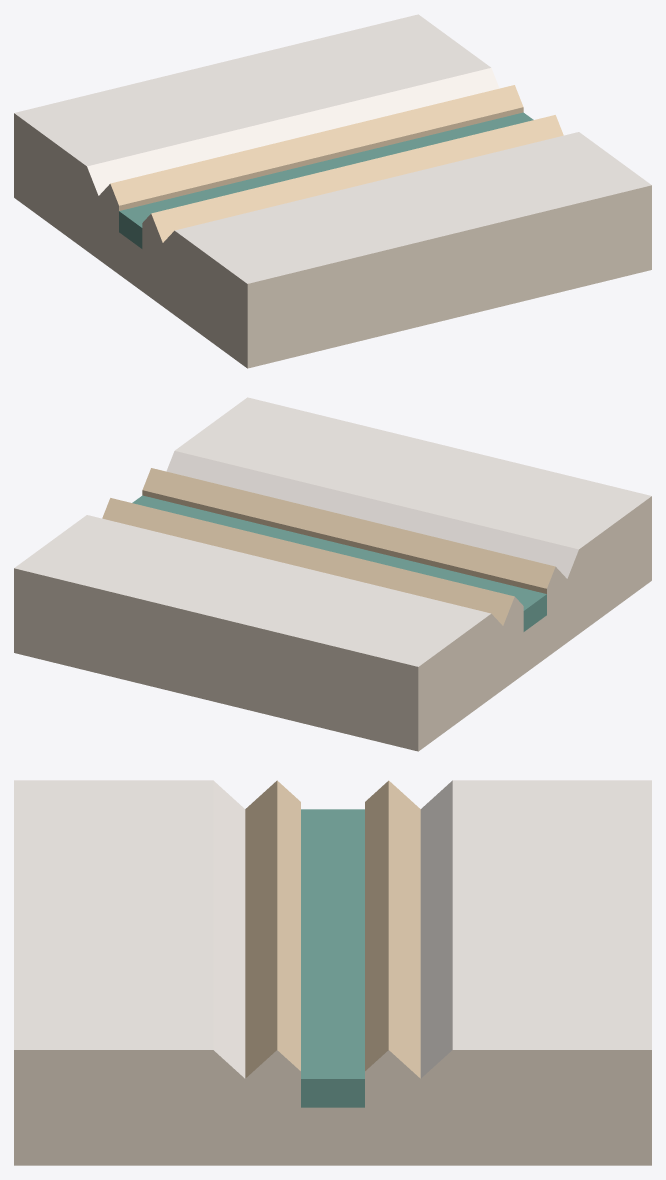
The model's file is Puzzle_Floor_Conduit_Standard_Straight.glb.
The picture shows the model from 3 angles, top to bottom: view 1: azimuth 30°, elevation 25°; view 2: azimuth 150°, elevation 25°; view 3: azimuth 270°, elevation 25°; orthographic projection. The views are drawn at different scales.
Visible parts, largest first — view 1: Puzzle_Floor_Conduit_Standard_Straight; view 2: Puzzle_Floor_Conduit_Standard_Straight; view 3: Puzzle_Floor_Conduit_Standard_Straight.
Boxes of the visible parts, left/top/right/bottom form: Puzzle_Floor_Conduit_Standard_Straight: left=14, top=14, right=651, bottom=368; Puzzle_Floor_Conduit_Standard_Straight: left=14, top=397, right=651, bottom=751; Puzzle_Floor_Conduit_Standard_Straight: left=14, top=780, right=651, bottom=1165.
Size of the model in its own units: 1 by 0.2 by 1.
